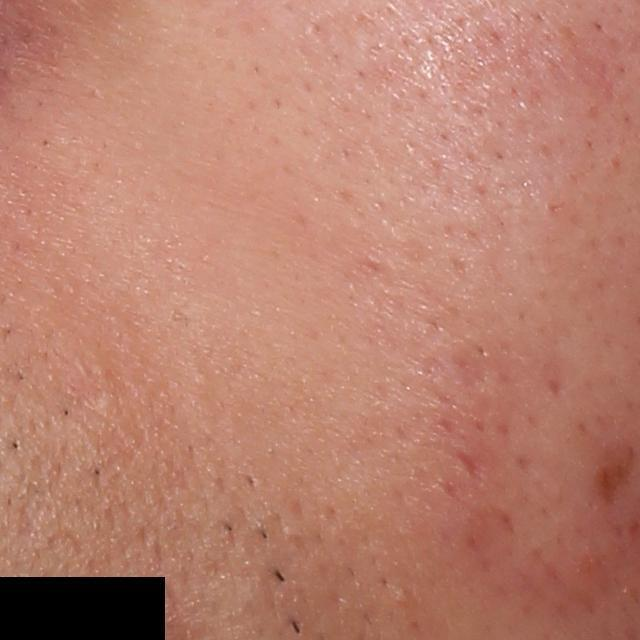atrophic_scar: (594, 445, 636, 507), (454, 447, 487, 484)
comedo: (391, 586, 412, 609)
